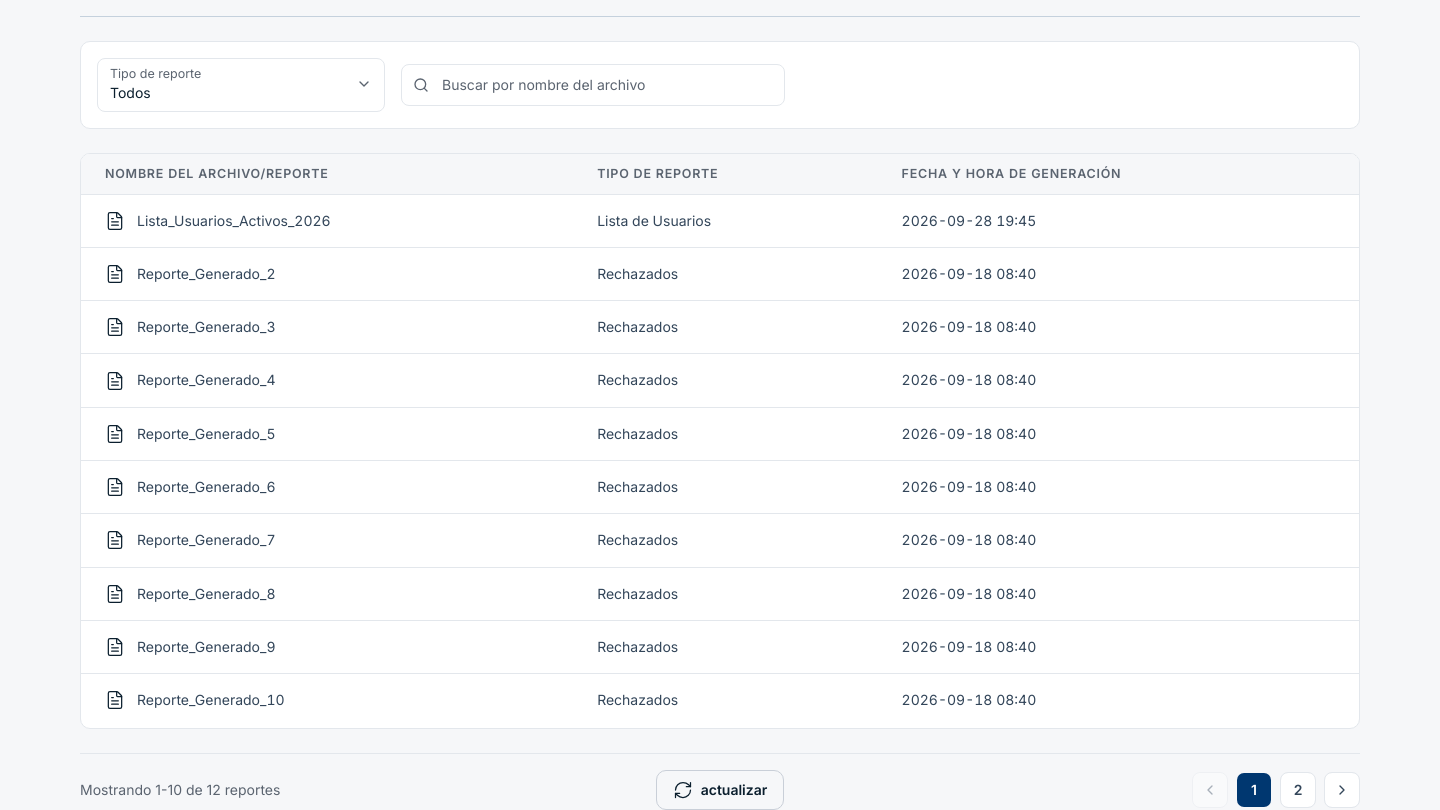
it: ReportHistoryView › búsqueda por nombre del archivo › busca por nombre después de dejar de escribir y vuelve a la primera página
The width and height of the screenshot is (1440, 810).
(page scrolled)
Expected: the text "Lista_Usuarios_Activos_2026" is shown, x1=137 y1=210 x2=331 y2=231
Click the button named "Página siguiente" at (1342, 790), box x1=1324 y1=772 x2=1360 y2=808
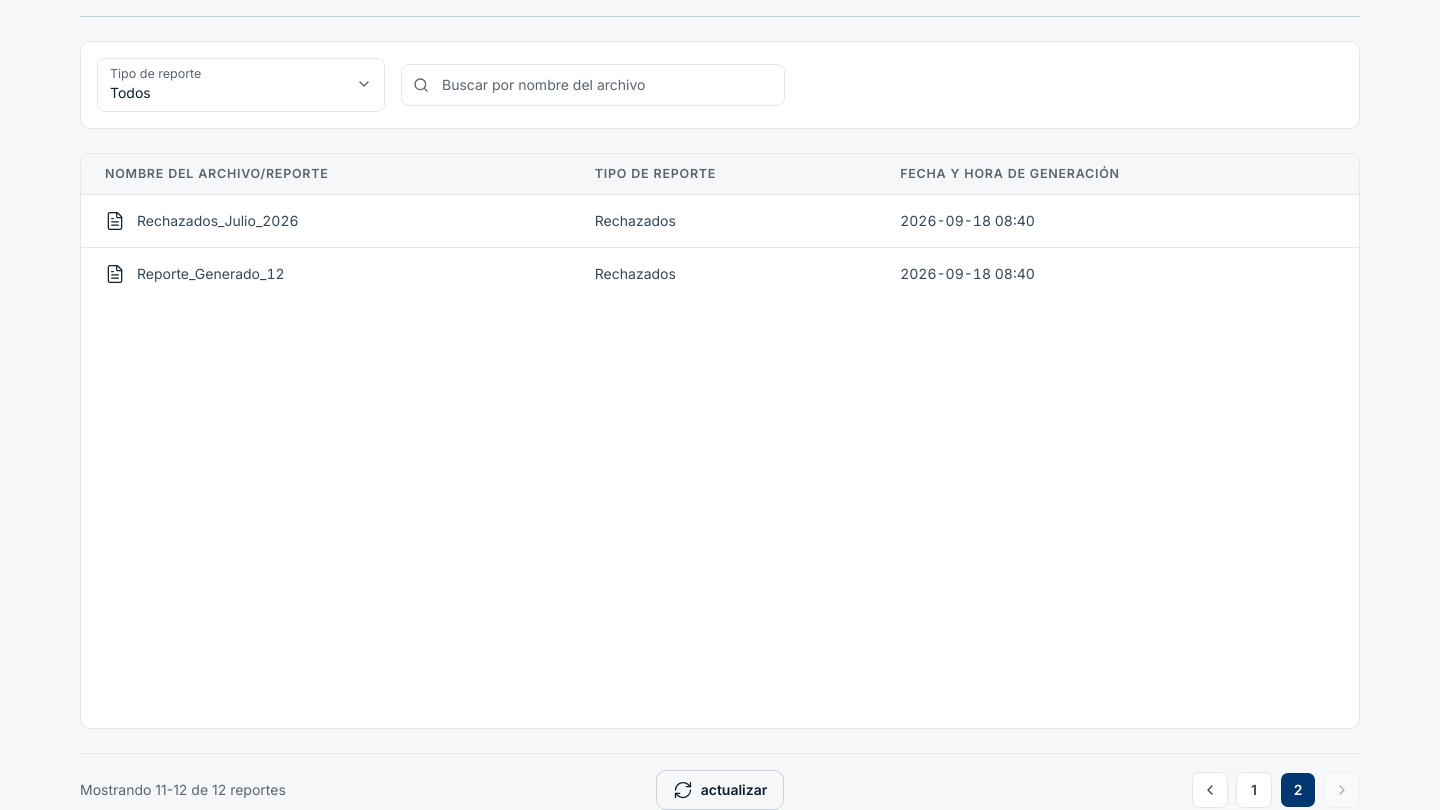
Expected: the text "Rechazados_Julio_2026" is shown, x1=137 y1=210 x2=299 y2=231
Type " Rechazados " into the field with placeholder "Buscar por nombre del archivo" at (593, 85), box x1=401 y1=64 x2=785 y2=106
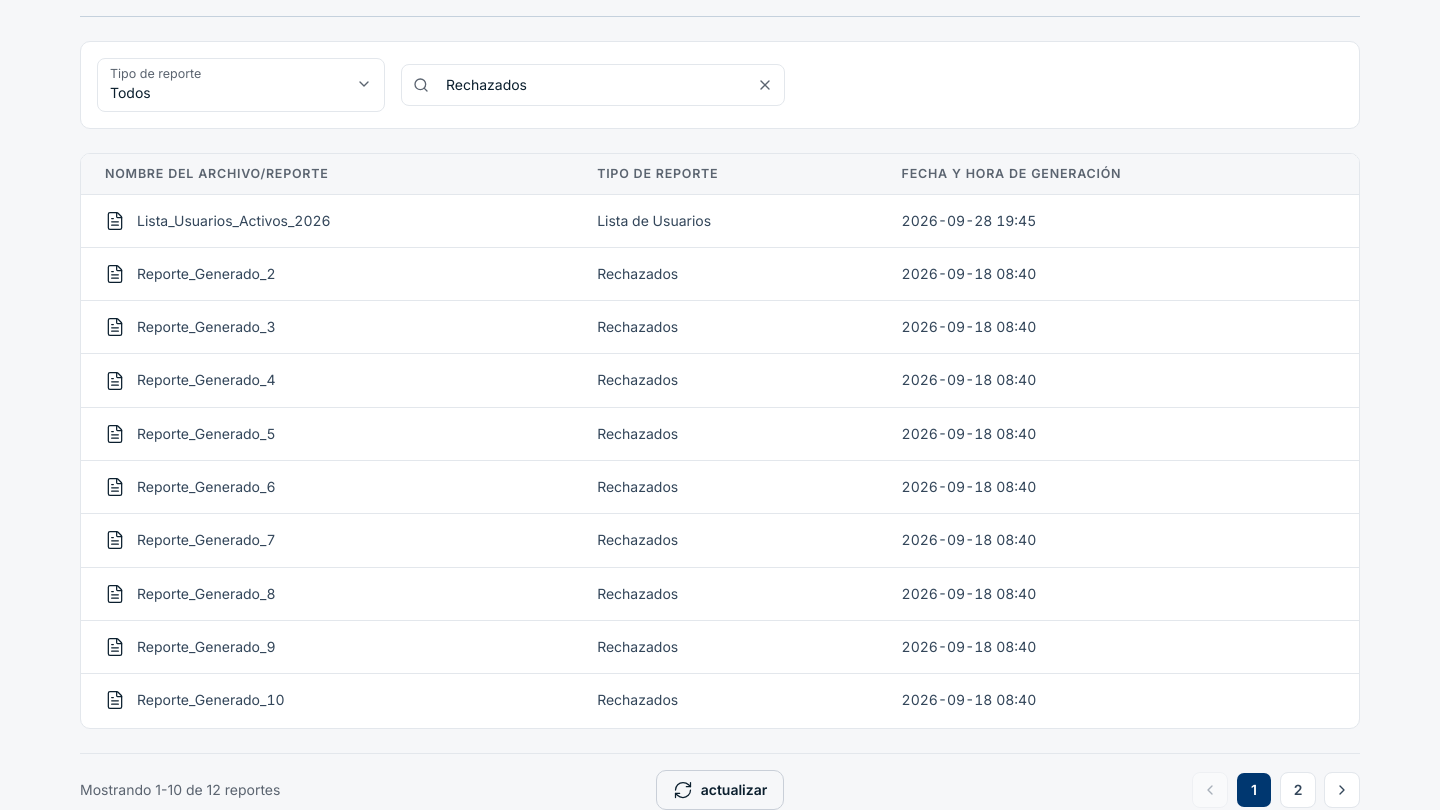
Expected: the button named "Limpiar búsqueda" is shown, x1=749 y1=69 x2=781 y2=101
